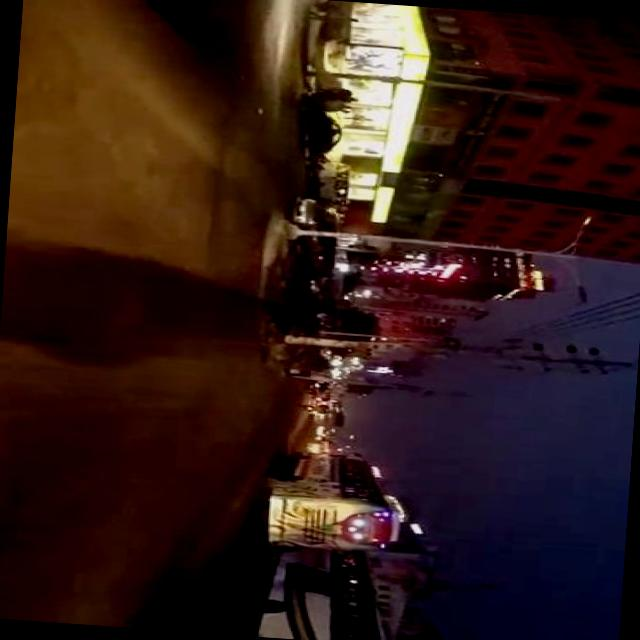bus: (265, 446, 405, 552), (257, 543, 395, 640), (313, 406, 348, 427)
car: (290, 195, 343, 249), (306, 108, 348, 154)
motorcycle: (299, 402, 318, 411)
truck: (314, 157, 355, 202)
